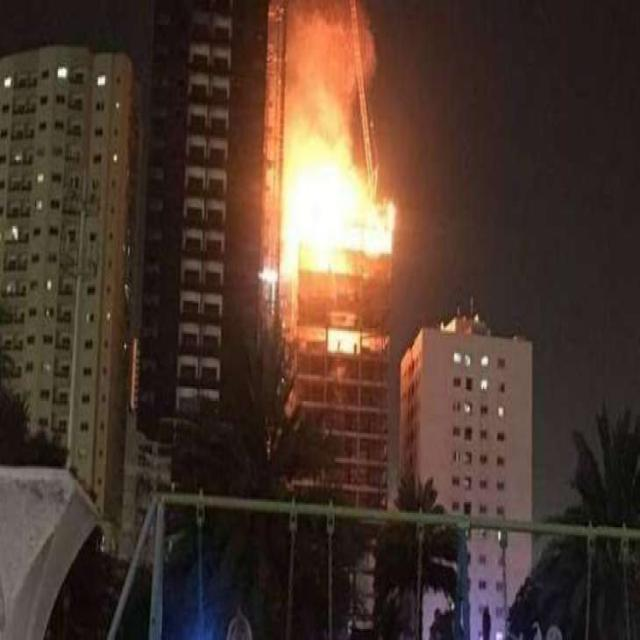Fire: (288, 148, 390, 258)
Smoke: (290, 10, 360, 94)
